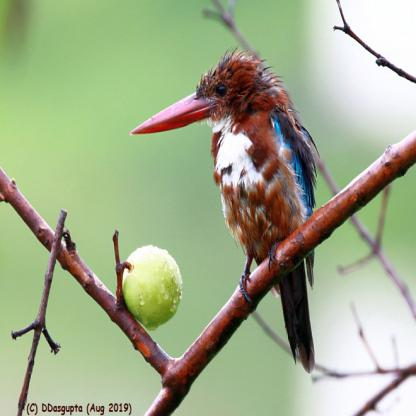Burung: (128, 48, 318, 375)
